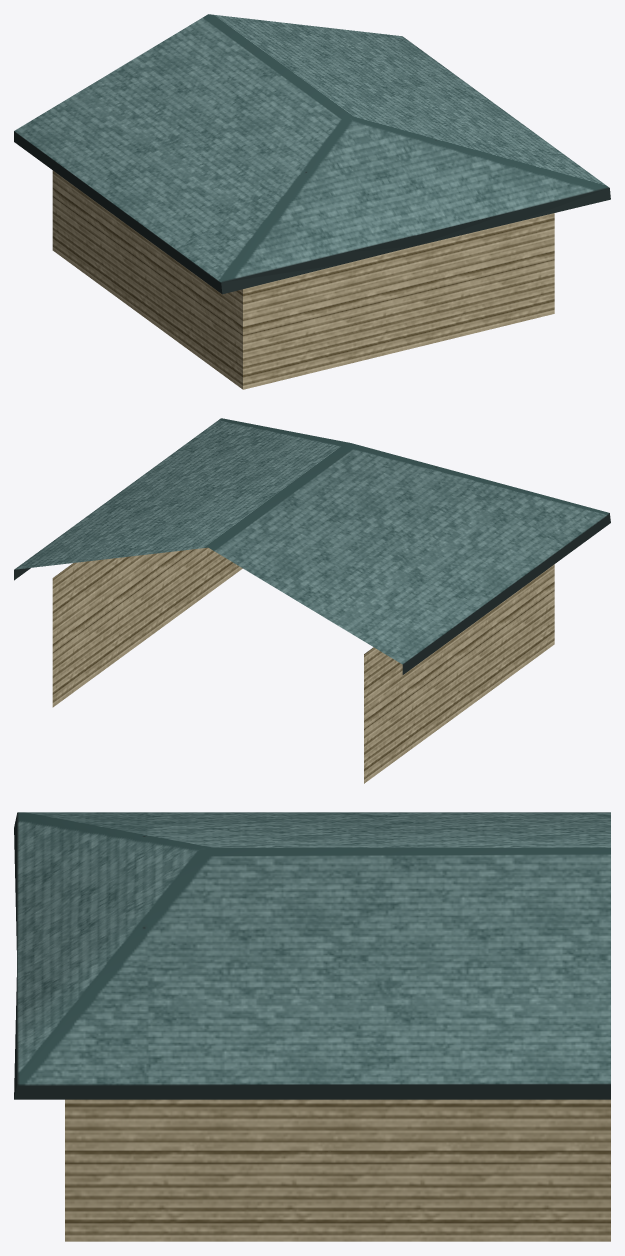
Rendered from HausKerstin1.FBX.
3 views of the same model, one above another, from view 1: azimuth 30°, elevation 25°; view 2: azimuth 150°, elevation 25°; view 3: azimuth 270°, elevation 25° (orthographic). The views are drawn at different scales.
Parts seen in each view (by area): view 1: Object002; view 2: Object002; view 3: Object002.
Boxes of the visible parts, x1=… form: Object002: x1=14, y1=14, x2=610, y2=389; Object002: x1=14, y1=418, x2=610, y2=783; Object002: x1=14, y1=812, x2=610, y2=1241.
Size of the model in its own units: 28.09 by 13.69 by 26.08.
Materials: 1 (1 with a texture image).
